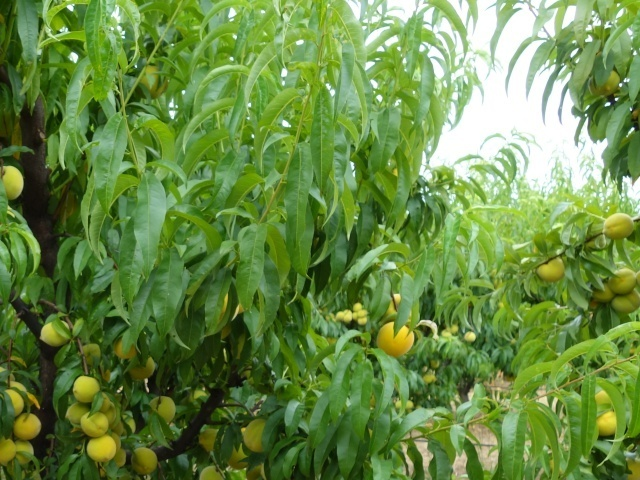peach: (590, 387, 628, 442), (375, 320, 420, 360), (134, 61, 171, 103), (241, 417, 277, 456), (584, 69, 623, 103), (84, 432, 120, 467), (37, 315, 75, 348), (11, 408, 46, 443), (533, 250, 568, 285), (601, 210, 638, 243), (1, 160, 28, 204), (67, 372, 103, 404), (145, 393, 179, 426), (77, 409, 112, 440), (1, 380, 30, 417), (607, 262, 639, 294), (128, 446, 160, 477), (125, 354, 158, 383), (610, 286, 639, 318), (63, 399, 93, 429), (108, 331, 138, 361), (588, 277, 619, 305), (196, 425, 224, 455), (8, 438, 37, 466), (78, 341, 103, 367), (195, 463, 230, 480)
